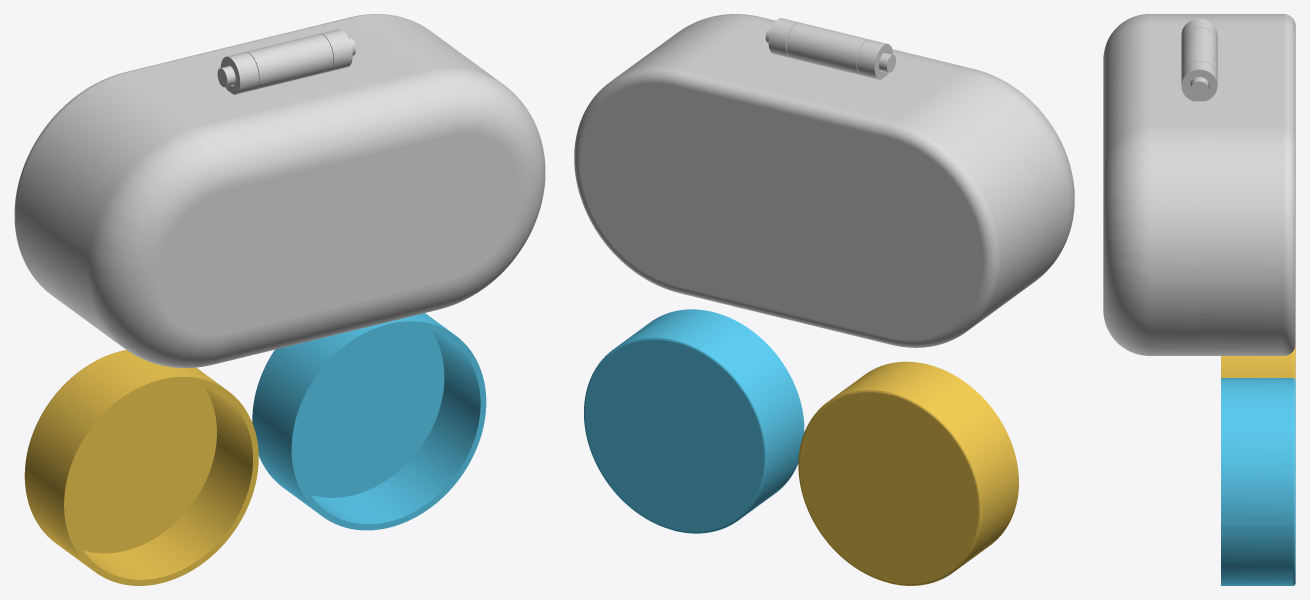
The picture shows the model from 3 angles, left to right: view 1: azimuth 30°, elevation 25°; view 2: azimuth 150°, elevation 25°; view 3: azimuth 270°, elevation 25°; orthographic projection. The views are drawn at different scales.
Parts seen in each view (by area): view 1: o1.2, o1.6.1, o1.7.1, o1.1; view 2: o1.1, o1.6.1, o1.7.1, o1.2; view 3: o1.1, o1.2, o1.7.1, o1.6.1, o1.3.
Boxes of the visible parts, x1=… form: o1.2: x1=61, y1=34, x2=545, y2=367; o1.6.1: x1=24, y1=350, x2=258, y2=585; o1.7.1: x1=252, y1=313, x2=486, y2=530; o1.1: x1=14, y1=14, x2=470, y2=326; o1.1: x1=574, y1=18, x2=1042, y2=347; o1.6.1: x1=798, y1=361, x2=1018, y2=585; o1.7.1: x1=584, y1=309, x2=804, y2=533; o1.2: x1=656, y1=14, x2=1074, y2=297; o1.1: x1=1181, y1=14, x2=1295, y2=355; o1.2: x1=1103, y1=14, x2=1217, y2=355; o1.7.1: x1=1221, y1=378, x2=1295, y2=585; o1.6.1: x1=1221, y1=346, x2=1295, y2=379; o1.3: x1=1190, y1=77, x2=1208, y2=97.
Size of the model in its own units: 0.1029 by 0.1135 by 0.0411.
